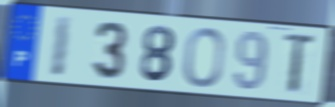3: (90, 20, 131, 81)
8: (138, 24, 177, 85)
9: (232, 29, 269, 93)
I: (49, 14, 74, 79)
O: (182, 26, 227, 89)
T: (283, 31, 319, 97)
